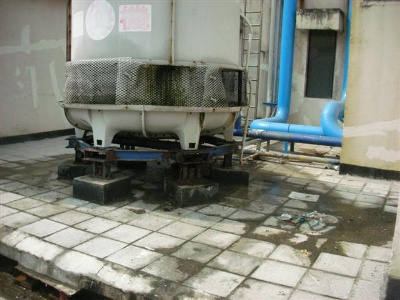water_tower: (60, 1, 248, 150)
